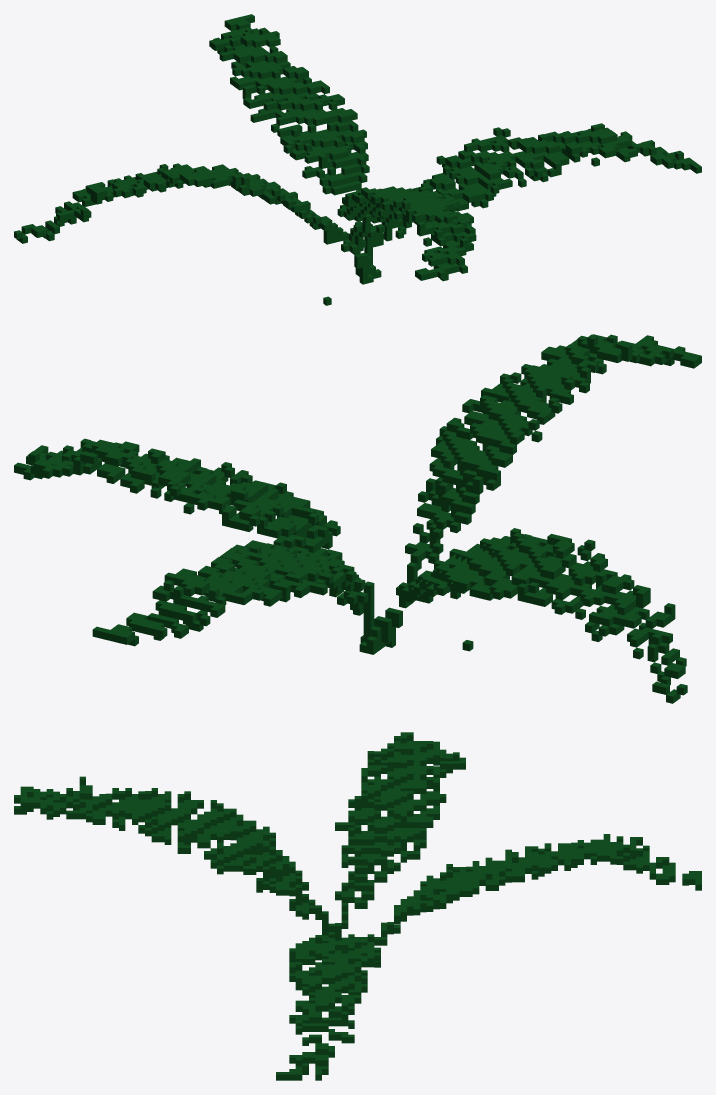
Rendered from Bushes-0.fbx.
The picture shows the model from 3 angles, top to bottom: view 1: azimuth 30°, elevation 25°; view 2: azimuth 150°, elevation 25°; view 3: azimuth 270°, elevation 25°; orthographic projection. The views are drawn at different scales.
Parts seen in each view (by area): view 1: Bushes-0; view 2: Bushes-0; view 3: Bushes-0.
Boxes of the visible parts, x1,y1,x2,y2 form: Bushes-0: (14, 14, 701, 305); Bushes-0: (14, 334, 701, 703); Bushes-0: (14, 732, 701, 1080).
Bounding box in the file's own units: 110 × 29 × 105.
